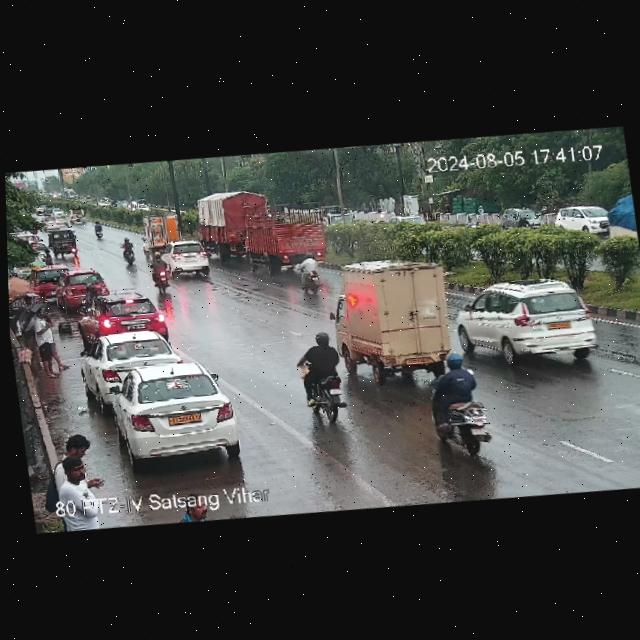car: (454, 269, 607, 372), (106, 355, 244, 466), (80, 324, 178, 395), (91, 288, 167, 339), (547, 199, 626, 245), (56, 264, 123, 309), (158, 237, 214, 280), (30, 260, 70, 294), (36, 203, 84, 229), (501, 203, 540, 231), (46, 227, 82, 257)
motorcycle: (420, 354, 496, 462), (289, 329, 347, 428), (296, 250, 325, 291), (146, 250, 169, 288), (114, 236, 140, 266), (92, 219, 104, 240)
person: (52, 431, 104, 494), (29, 308, 60, 374), (172, 489, 209, 523)
truck: (324, 241, 471, 387), (199, 180, 335, 278), (246, 217, 334, 275), (135, 212, 184, 245)
